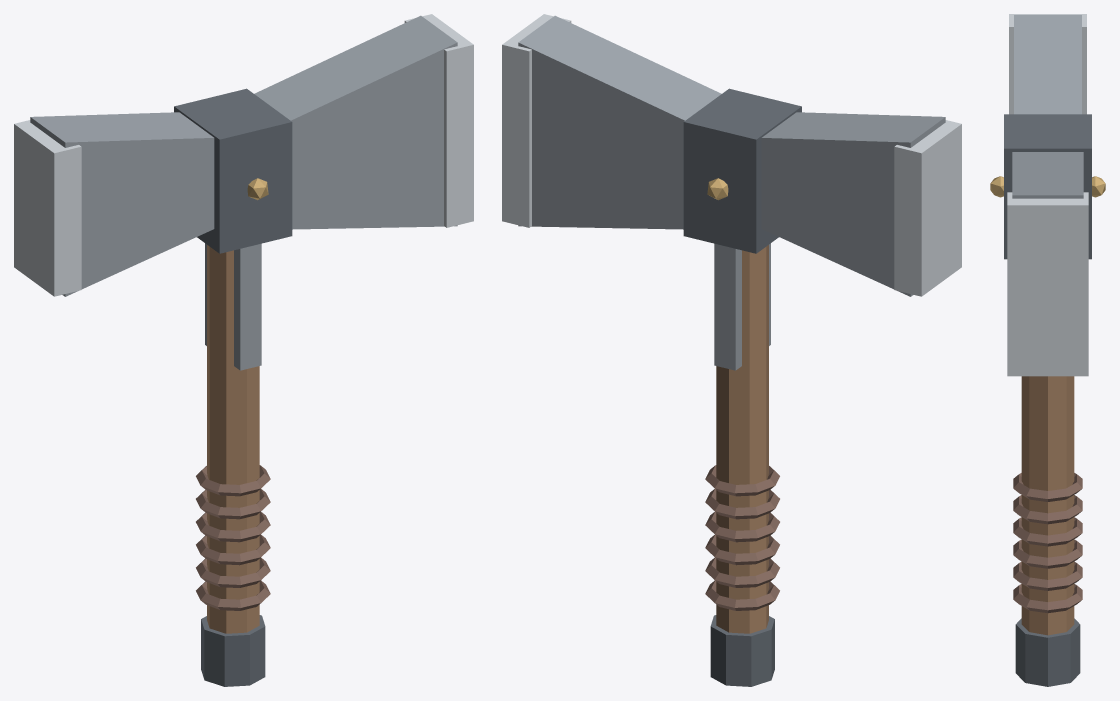
File: double_axe.glb
3 views of the same model, side by side, from view 1: azimuth 30°, elevation 25°; view 2: azimuth 150°, elevation 25°; view 3: azimuth 270°, elevation 25° (orthographic). The views are drawn at different scales.
Parts seen in each view (by area): view 1: ChoppingBlade.002, HookBlade, HaftCore.002, HeadSocket.002, HookEdge, ChoppingEdge.002, LowerFerrule.002, LangetFront.001, GripWrap_5.002, GripWrap_4.002, GripWrap_0.002, GripWrap_2.002 (+2 smaller); view 2: ChoppingBlade.002, HookBlade, HaftCore.002, HeadSocket.002, HookEdge, ChoppingEdge.002, LowerFerrule.002, LangetBack.001, GripWrap_5.002, GripWrap_4.002, GripWrap_0.002, GripWrap_2.002 (+2 smaller); view 3: ChoppingEdge.002, HaftCore.002, HookBlade, HeadSocket.002, LowerFerrule.002, ChoppingBlade.002, HookEdge, GripWrap_3.002, GripWrap_2.002, GripWrap_1.002, GripWrap_0.002, GripWrap_4.002 (+3 smaller).
Part boxes in pixels (<box>): ChoppingBlade.002: <box>254,15,457,229</box>; HookBlade: <box>30,112,214,296</box>; HaftCore.002: <box>207,245,259,633</box>; HeadSocket.002: <box>174,88,292,253</box>; HookEdge: <box>14,120,81,296</box>; ChoppingEdge.002: <box>404,14,473,227</box>; LowerFerrule.002: <box>201,615,265,686</box>; LangetFront.001: <box>234,243,261,370</box>; GripWrap_5.002: <box>196,465,270,496</box>; GripWrap_4.002: <box>196,489,270,519</box>; GripWrap_0.002: <box>196,580,270,610</box>; GripWrap_2.002: <box>196,535,270,565</box>; ChoppingBlade.002: <box>518,15,721,229</box>; HookBlade: <box>761,112,945,296</box>; HaftCore.002: <box>716,245,768,633</box>; HeadSocket.002: <box>683,88,801,253</box>; HookEdge: <box>894,120,961,296</box>; ChoppingEdge.002: <box>502,14,571,227</box>; LowerFerrule.002: <box>710,615,774,686</box>; LangetBack.001: <box>714,243,741,370</box>; GripWrap_5.002: <box>705,465,779,496</box>; GripWrap_4.002: <box>705,489,779,519</box>; GripWrap_0.002: <box>705,580,779,610</box>; GripWrap_2.002: <box>705,535,779,565</box>; ChoppingEdge.002: <box>1007,192,1088,376</box>; HaftCore.002: <box>1021,376,1074,635</box>; HookBlade: <box>1014,15,1081,114</box>; HeadSocket.002: <box>1004,114,1091,259</box>; LowerFerrule.002: <box>1015,618,1080,686</box>; ChoppingBlade.002: <box>1012,152,1083,198</box>; HookEdge: <box>1009,14,1086,114</box>; GripWrap_3.002: <box>1013,517,1082,546</box>; GripWrap_2.002: <box>1013,539,1082,568</box>; GripWrap_1.002: <box>1013,561,1082,590</box>; GripWrap_0.002: <box>1013,584,1082,613</box>; GripWrap_4.002: <box>1013,495,1082,524</box>.
Size of the model in its own units: 1.38 by 1.87 by 0.3395.
